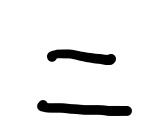eqv: (38, 49, 132, 116)
